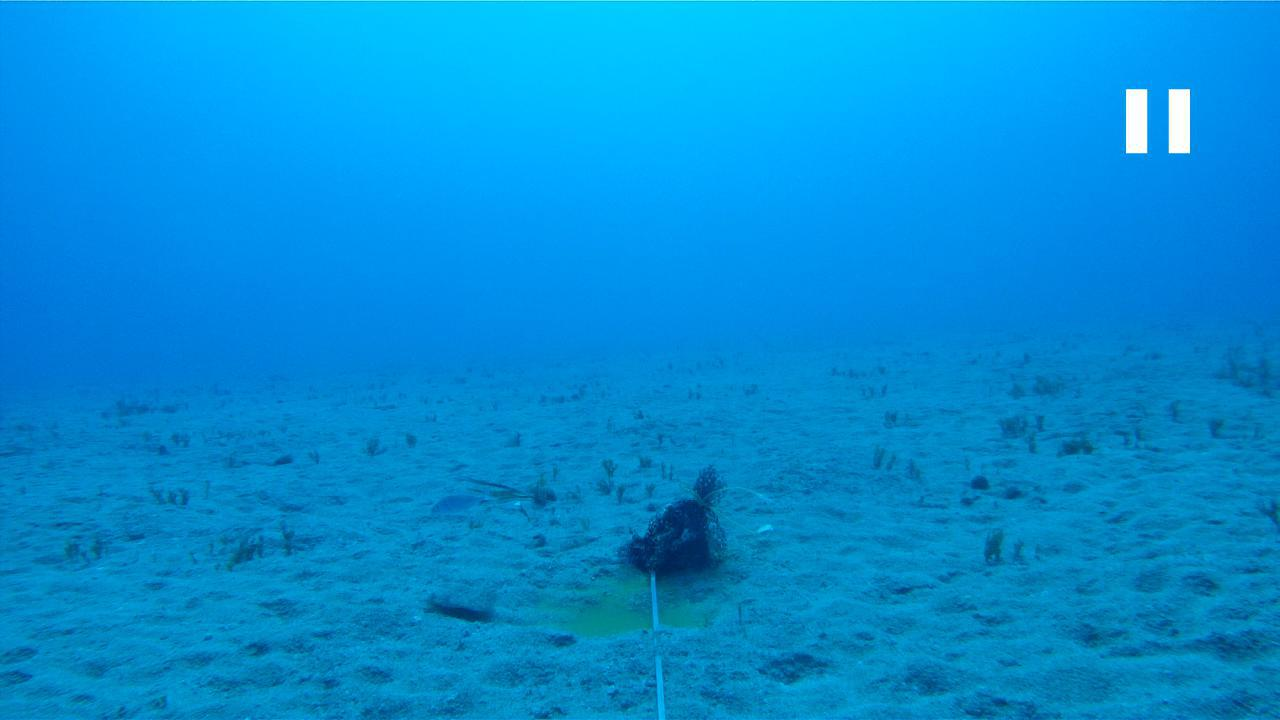bothus: (414, 574, 503, 620)
